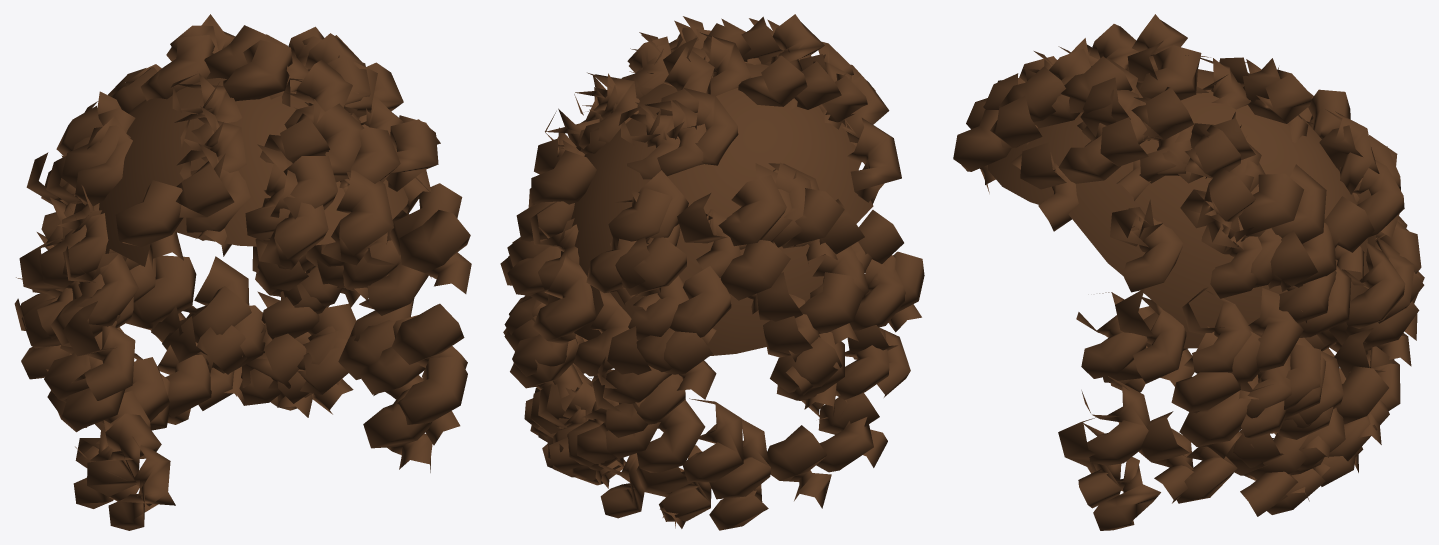
File: curly_f.glb
The picture shows the model from 3 angles, left to right: view 1: azimuth 30°, elevation 25°; view 2: azimuth 150°, elevation 25°; view 3: azimuth 270°, elevation 25°; orthographic projection. The views are drawn at different scales.
Parts seen in each view (by area): view 1: curly_f; view 2: curly_f; view 3: curly_f.
Part boxes in pixels (bbox=[...]): curly_f: bbox=[14, 14, 471, 530]; curly_f: bbox=[500, 14, 924, 530]; curly_f: bbox=[953, 14, 1424, 530].
Size of the model in its own units: 0.2364 by 0.2667 by 0.2535.
